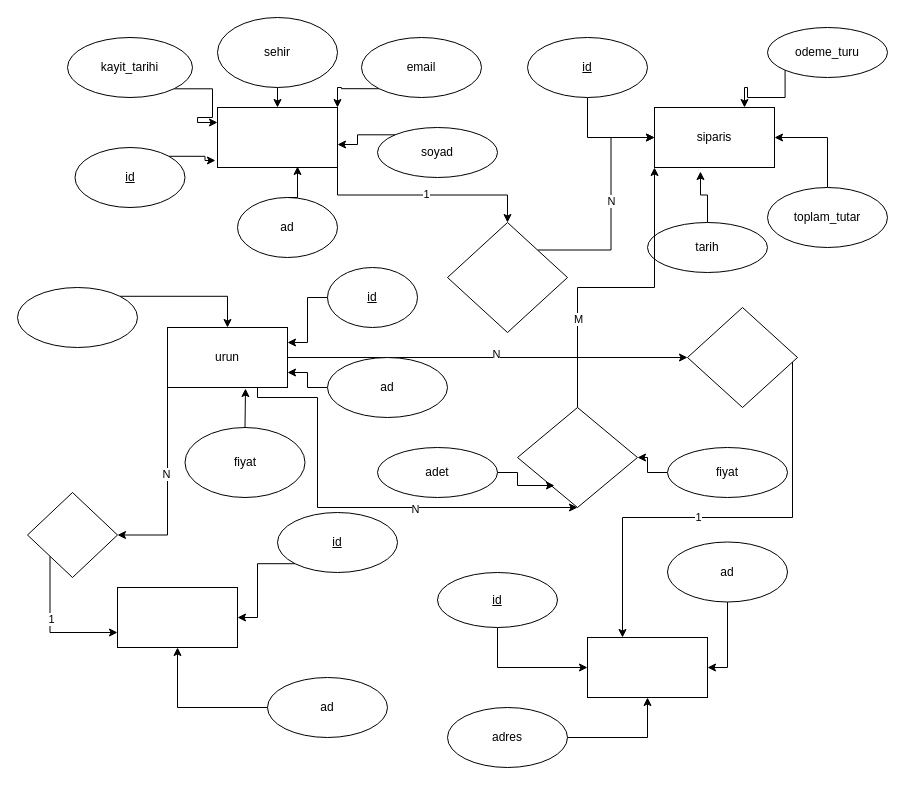
The diagram is 905 pixels wide and 785 high, and some of its shapes have lost their labels. The shapes that lost their labels are listed below. From the top down, each one's centre as x and y in pixels, then its label:
At pixel 277 137: "musteri".
At pixel 507 277: "VEREBİLİR".
At pixel 77 317: "stok".
At pixel 742 357: "AİTTİR".
At pixel 577 457: "İÇEREBİLİR".
At pixel 72 535: "VARDIR".
At pixel 177 617: "kategori".
At pixel 647 667: "satici".
